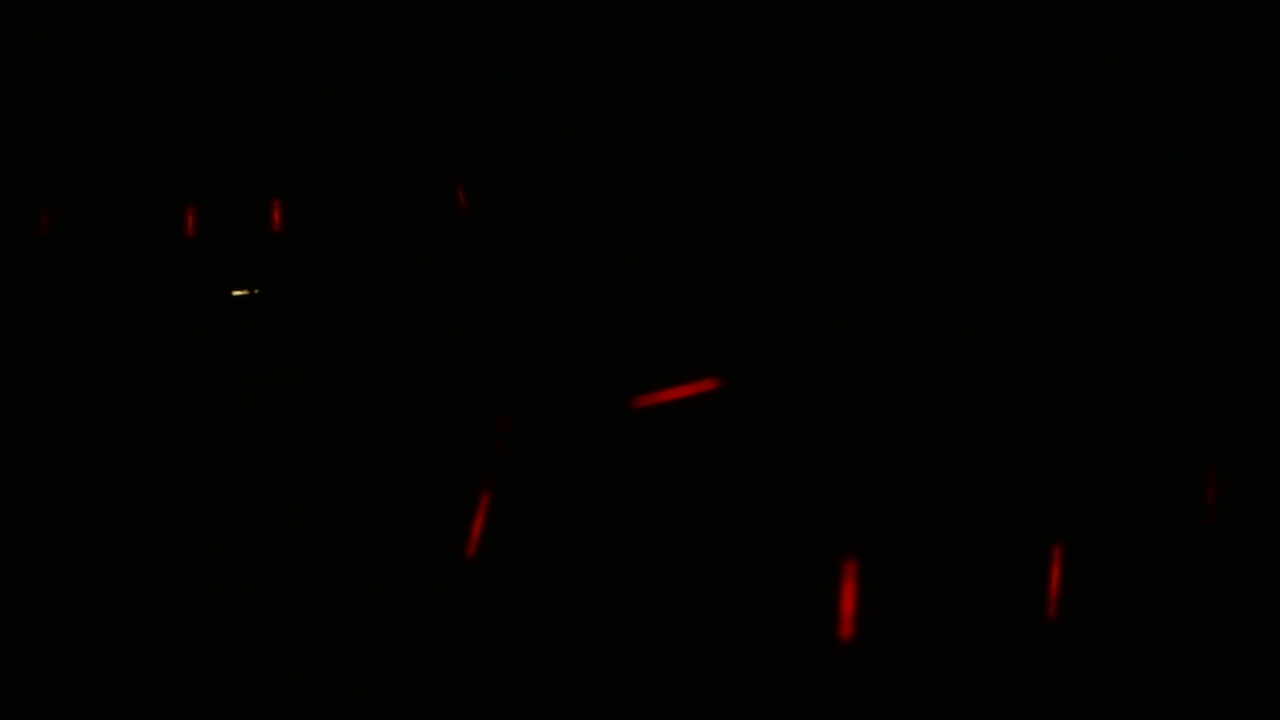pair1: (833, 540, 1070, 641), (178, 191, 287, 245)
